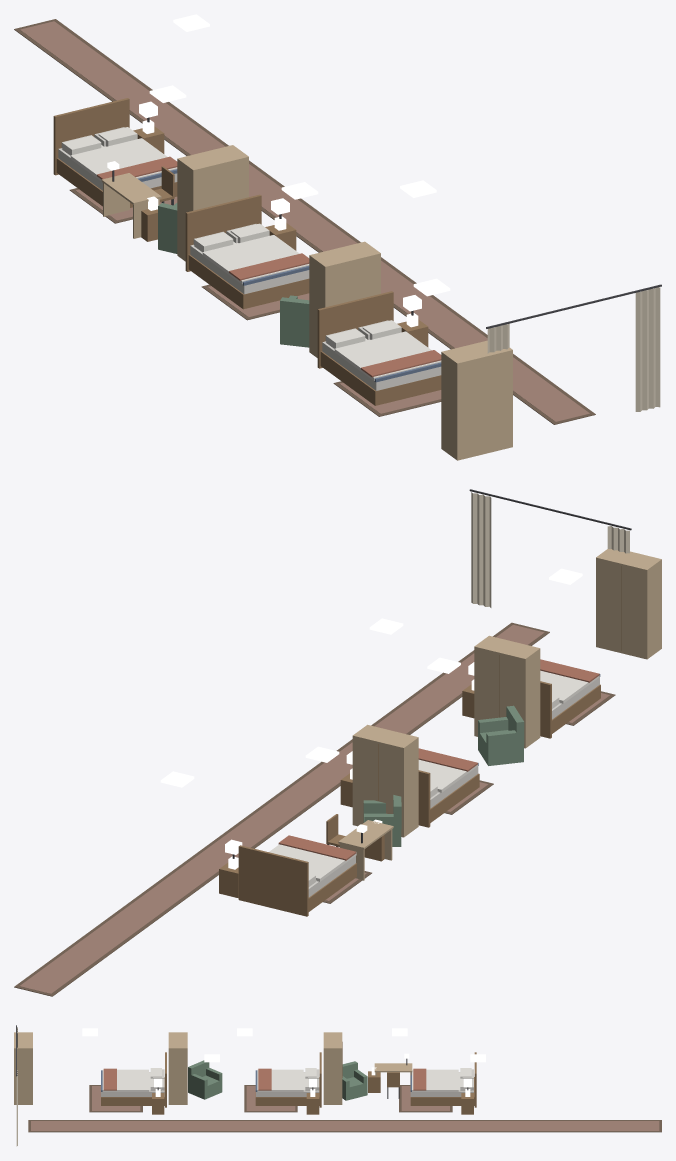
File: fine-s1.glb
3 renders of one model, top to bottom at view 1: azimuth 30°, elevation 25°; view 2: azimuth 150°, elevation 25°; view 3: azimuth 270°, elevation 25°, orthographic. The views are drawn at different scales.
Visible parts, largest first — view 1: soft-s1, dresser.002, bed-frame.002, bed-frame.001, dresser.000, dresser.001, bed-frame.000, writing-desk.000, lounge-chair.001, lounge-chair.000, side-table.000; view 2: soft-s1, dresser.002, dresser.000, dresser.001, bed-frame.000, lounge-chair.001, bed-frame.001, bed-frame.002, writing-desk.000, lounge-chair.000; view 3: soft-s1, dresser.000, dresser.001, dresser.002, lounge-chair.001, bed-frame.001, bed-frame.000, bed-frame.002, lounge-chair.000, writing-desk.000, nightstand.001, nightstand.000 (+3 smaller).
Part boxes in pixels (x1,y1,x2,y2): soft-s1: [14, 19, 661, 424]; dresser.002: [441, 340, 512, 460]; bed-frame.002: [317, 291, 441, 405]; bed-frame.001: [185, 194, 309, 309]; dresser.000: [177, 145, 248, 261]; dresser.001: [309, 241, 380, 357]; bed-frame.000: [53, 98, 177, 207]; writing-desk.000: [101, 161, 161, 238]; lounge-chair.001: [280, 295, 309, 347]; lounge-chair.000: [158, 203, 177, 253]; side-table.000: [141, 196, 158, 241]; soft-s1: [14, 489, 631, 996]; dresser.002: [596, 549, 661, 659]; dresser.000: [352, 724, 418, 837]; dresser.001: [474, 635, 540, 748]; bed-frame.000: [238, 845, 356, 916]; lounge-chair.001: [478, 705, 524, 765]; bed-frame.001: [418, 763, 479, 827]; bed-frame.002: [540, 674, 600, 738]; writing-desk.000: [338, 820, 393, 880]; lounge-chair.000: [363, 795, 401, 846]; soft-s1: [16, 1025, 661, 1146]; dresser.000: [323, 1032, 342, 1104]; dresser.001: [168, 1032, 187, 1104]; dresser.002: [14, 1032, 32, 1104]; lounge-chair.001: [188, 1060, 222, 1099]; bed-frame.001: [255, 1052, 321, 1107]; bed-frame.000: [410, 1052, 476, 1107]; bed-frame.002: [101, 1052, 166, 1107]; lounge-chair.000: [342, 1061, 367, 1100]; writing-desk.000: [374, 1053, 412, 1091]; nightstand.001: [306, 1089, 319, 1114]; nightstand.000: [461, 1089, 473, 1114].
Bounding box in the file's own units: 4.79 × 2.56 × 20.62.
